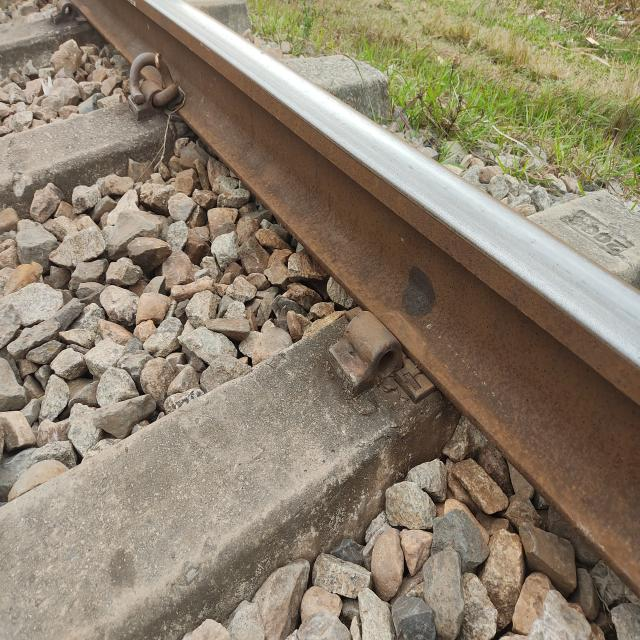Faults: (316, 314, 402, 401)
